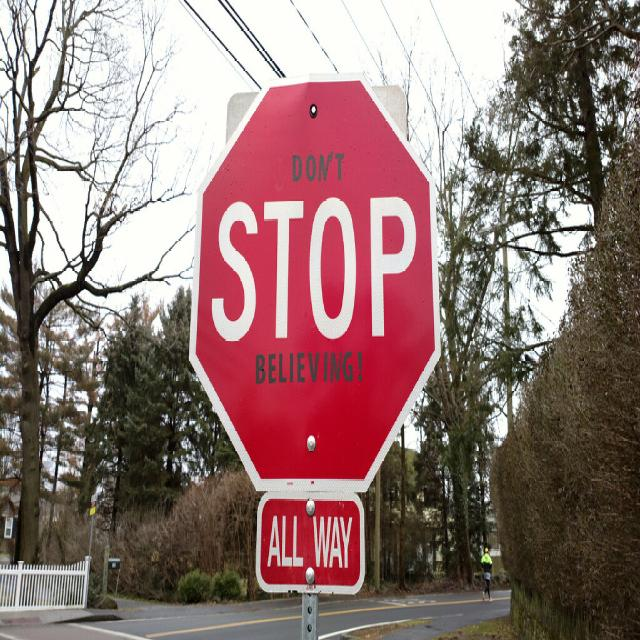Panneau-Stop: (185, 62, 445, 496)
